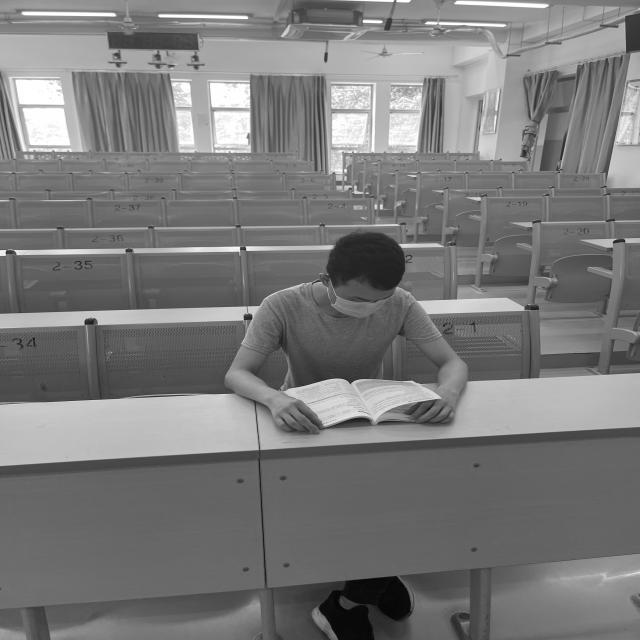study: (226, 231, 467, 426)
